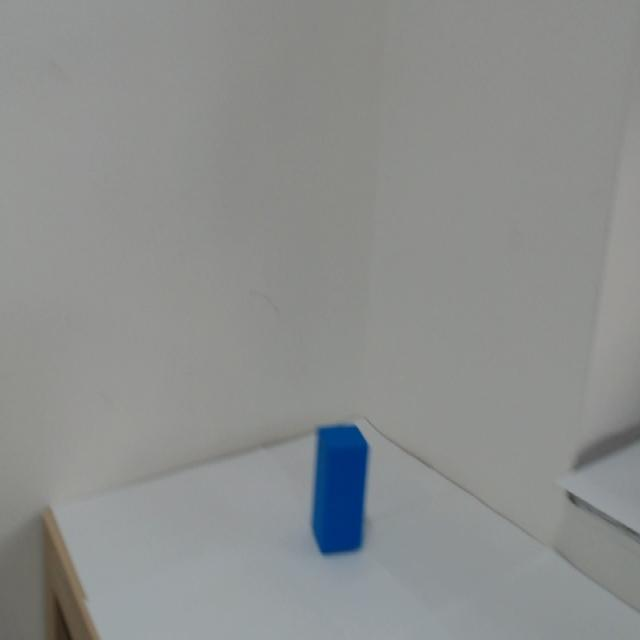cube: (295, 406, 373, 581)
